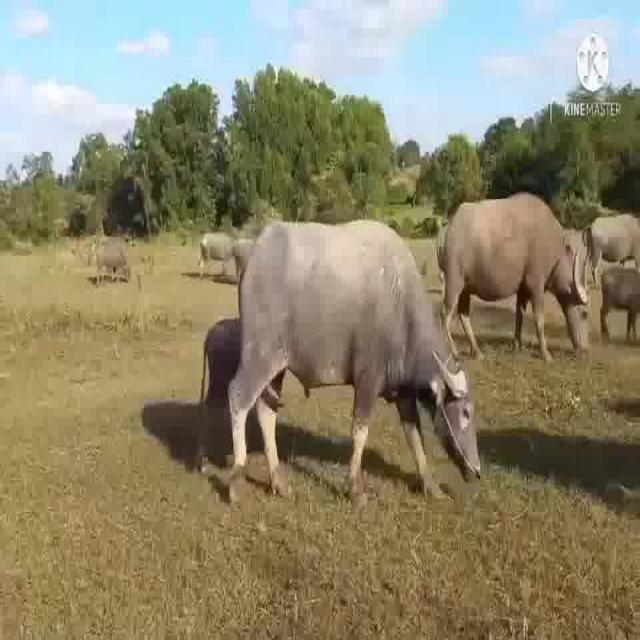buffalo: (229, 217, 488, 505), (440, 193, 593, 366), (591, 245, 640, 349), (94, 235, 135, 286)
